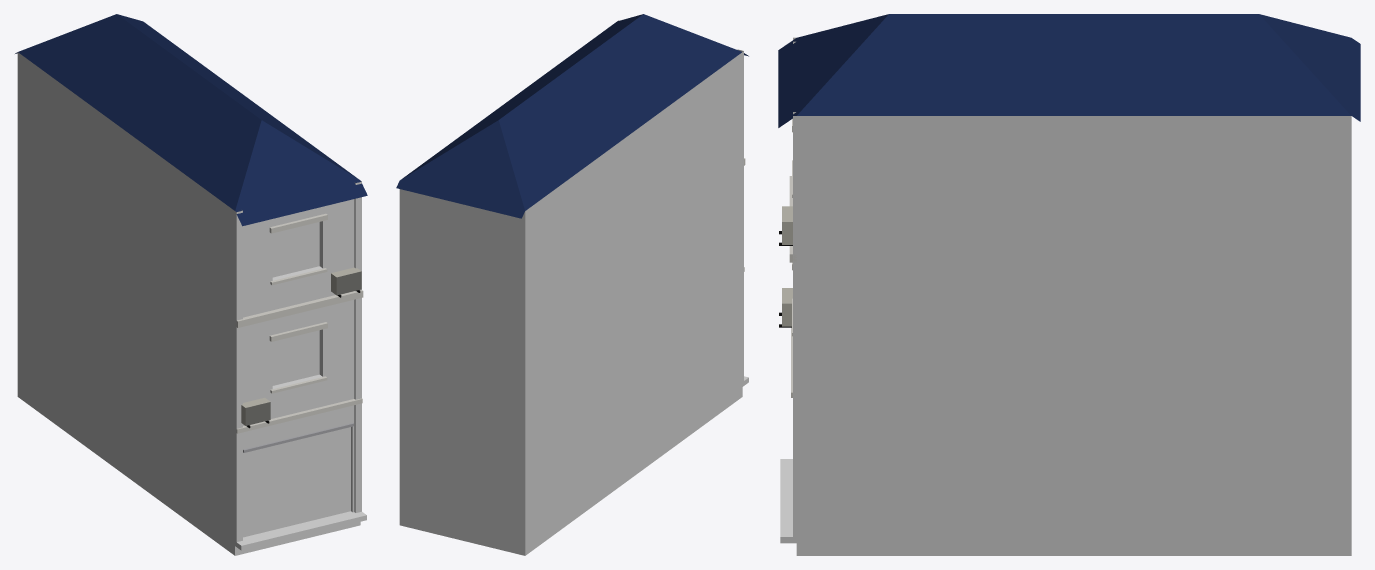
3 views of the same model, side by side, from view 1: azimuth 30°, elevation 25°; view 2: azimuth 150°, elevation 25°; view 3: azimuth 270°, elevation 25° (orthographic). The views are drawn at different scales.
Parts seen in each view (by area): view 1: TH_D12_C_04_LOD0; view 2: TH_D12_C_04_LOD0; view 3: TH_D12_C_04_LOD0.
Part boxes in pixels (left/top/right/bottom): TH_D12_C_04_LOD0: left=15, top=14, right=367, bottom=555; TH_D12_C_04_LOD0: left=396, top=14, right=748, bottom=555; TH_D12_C_04_LOD0: left=778, top=14, right=1360, bottom=555.
Size of what is drawn, in the model's own units: 4 by 12 by 12.6.
